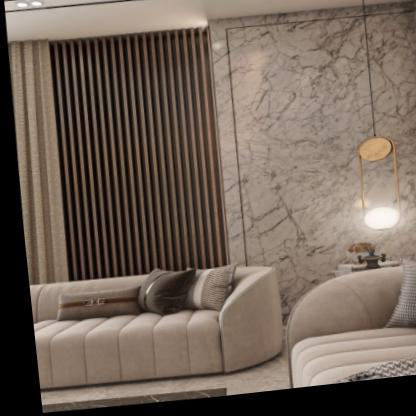Gypsum Board: (3, 0, 415, 52)
Wall Panel: (3, 5, 416, 299)
